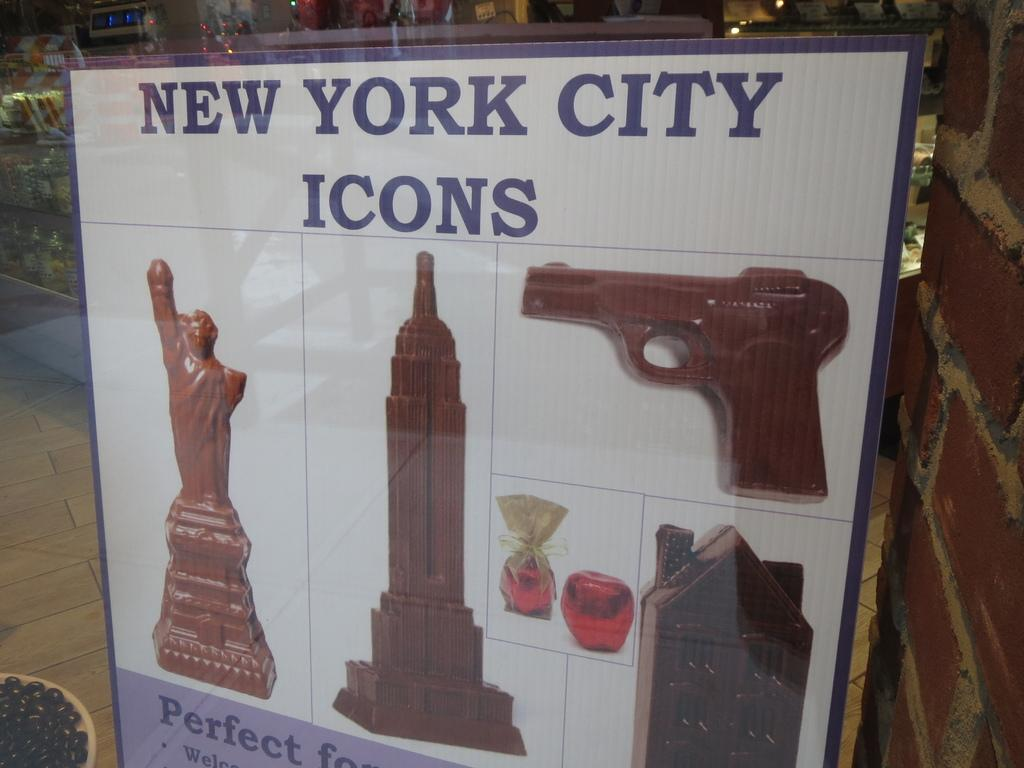Handgun: (520, 259, 852, 506)
